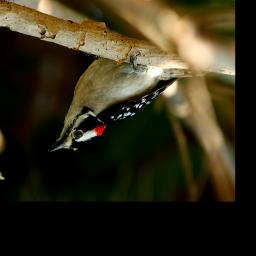Woodpecker: (46, 49, 210, 159)
